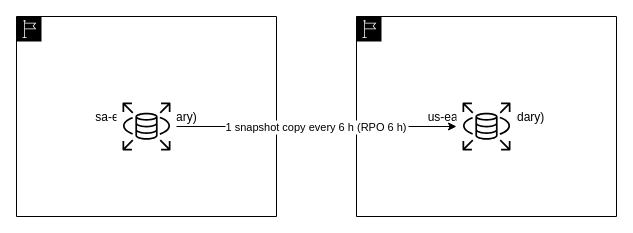
The diagram is 633 pixels wide and 233 high, and some of its shapes have lost their labels. Each missing label, with the centre of its shape:
"RDS cross-region snapshot copy" belongs at point (486, 126).
"RDS primary" belongs at point (146, 126).
